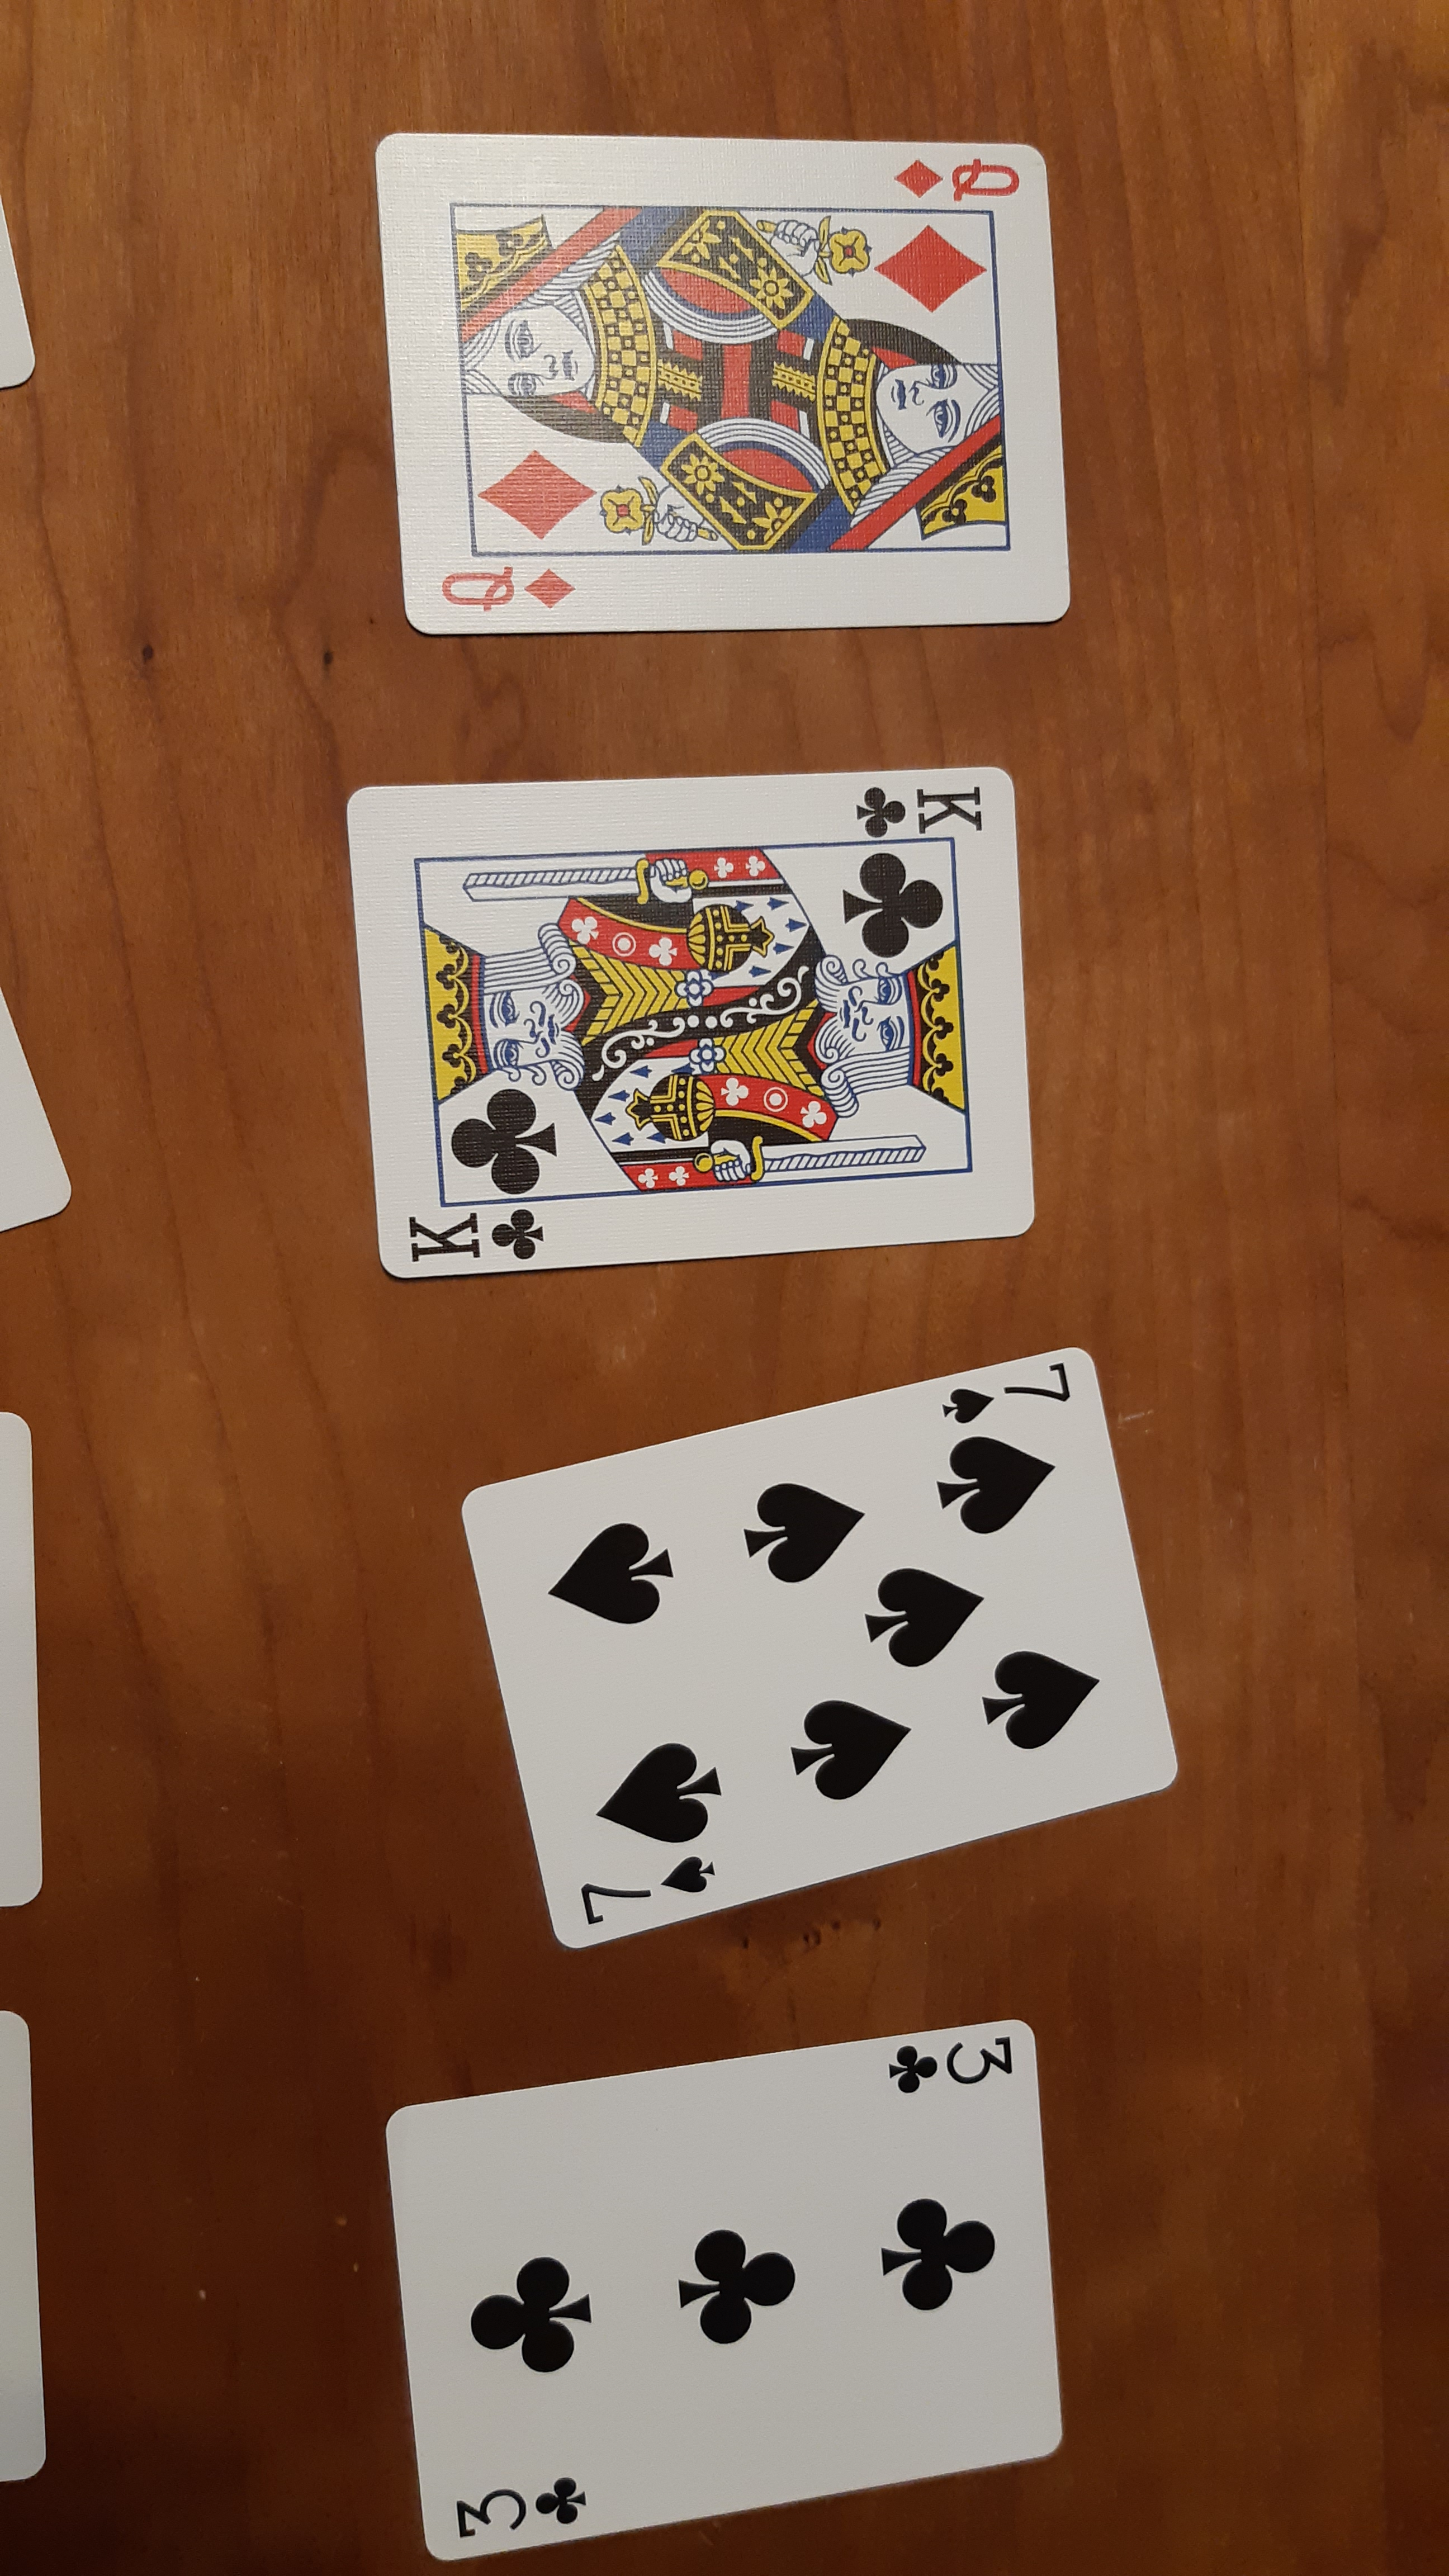Black_Club_3: (439, 2466, 598, 2553), (870, 2028, 1028, 2104)
Black_Club_King: (386, 1201, 564, 1265), (837, 778, 1001, 842)
Black_Spade_7: (554, 1847, 722, 1934), (934, 1357, 1085, 1431)
Red_Diamond_Queen: (414, 556, 579, 619), (878, 147, 1031, 207)
